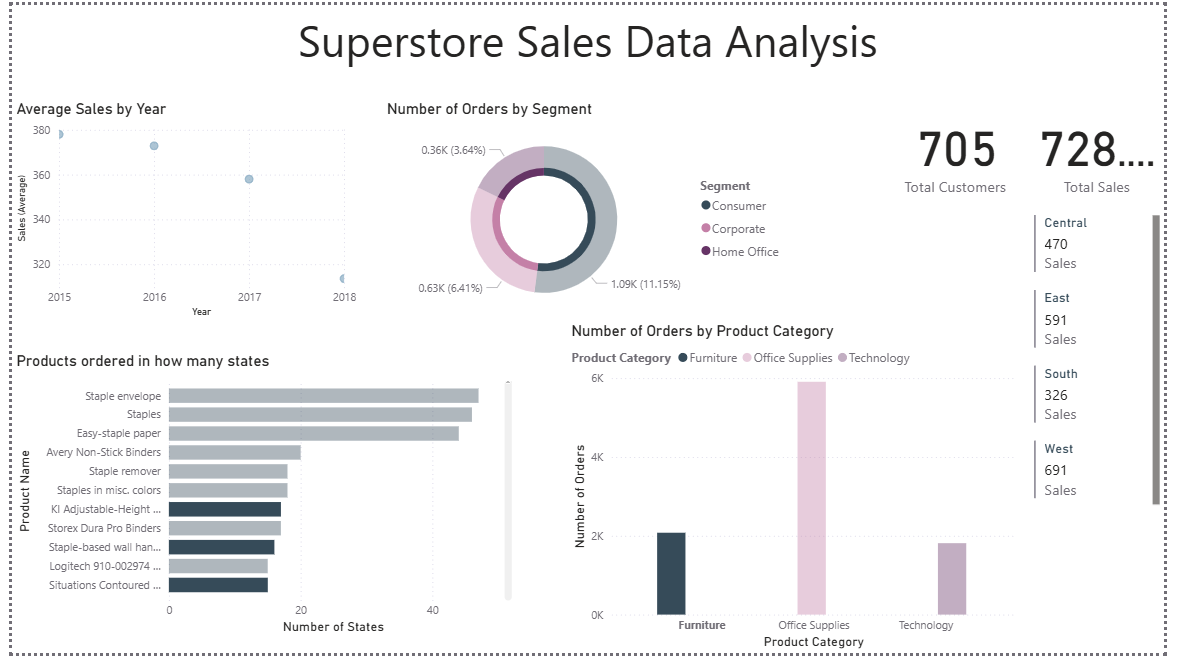

Layout of this report page (visuals, bound fields, positions):
{"tool":"powerbi","page":{"name":"Page 1","canvas":[1280,720],"ordinal":0},"visuals":[{"type":"scatterChart","title":"Average Sales by Year","fields":{"Y":["Avg(train.Sales)"],"X":["train.Order Year"]},"box":[0,105,386.7,246.7],"z":0},{"type":"card","fields":{"Values":["Count(train.Customer ID)"]},"box":[970,105,160,116.7],"z":1000},{"type":"clusteredBarChart","title":"Products ordered in how many states","fields":{"Category":["train.Product Name"],"Y":["CountNonNull(train.State)"]},"box":[0,385,560,318.3],"z":2000},{"type":"multiRowCard","fields":{"Values":["train.Region","CountNonNull(train.Sales (bins))"]},"box":[1130,228.3,150,343.3],"z":3000},{"type":"clusteredColumnChart","title":"Number of Orders by Product Category ","fields":{"Category":["train.Category","train.Sub-Category"],"Y":["CountNonNull(train.Order ID)"],"Series":["train.Category"]},"box":[616.7,351.7,503.3,368.3],"z":4000},{"type":"card","fields":{"Values":["Sum(train.Sales)"]},"box":[1130,105,150,116.7],"z":5000},{"type":"donutChart","fields":{"Series":["train.Segment"],"Y":["CountNonNull(train.Order ID)"]},"box":[411.7,105,455,246.7],"z":6000},{"type":"textbox","box":[0,0,1280,81.7],"z":7000}]}

Visuals, with their boxes in screenshot pixels (x1, y1, x2, y2), scaled from the page's 1280x720 canvas onto the 1179x660 screenshot:
"Average Sales by Year" scatterChart: locate(0, 96, 356, 322)
card - Count(train.Customer ID): locate(893, 96, 1041, 203)
"Products ordered in how many states" clusteredBarChart: locate(0, 353, 516, 645)
multiRowCard - train.Region x CountNonNull(train.Sales (bins)): locate(1041, 209, 1178, 524)
"Number of Orders by Product Category " clusteredColumnChart: locate(568, 322, 1032, 659)
card - Sum(train.Sales): locate(1041, 96, 1178, 203)
donutChart - train.Segment x CountNonNull(train.Order ID): locate(379, 96, 798, 322)
textbox: locate(0, 0, 1178, 75)
